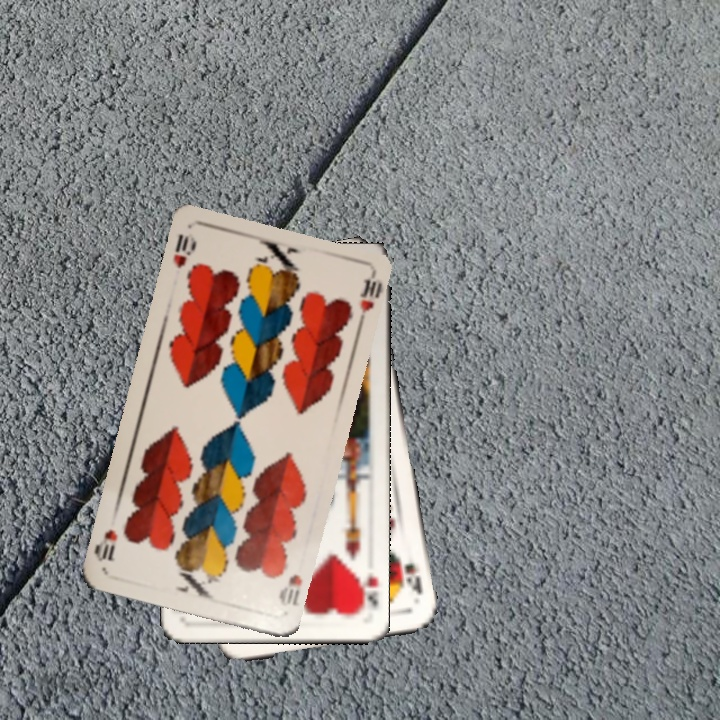H10: (169, 229, 200, 271), (275, 570, 305, 609)
HK: (353, 568, 381, 616)
SK: (394, 552, 425, 598)
